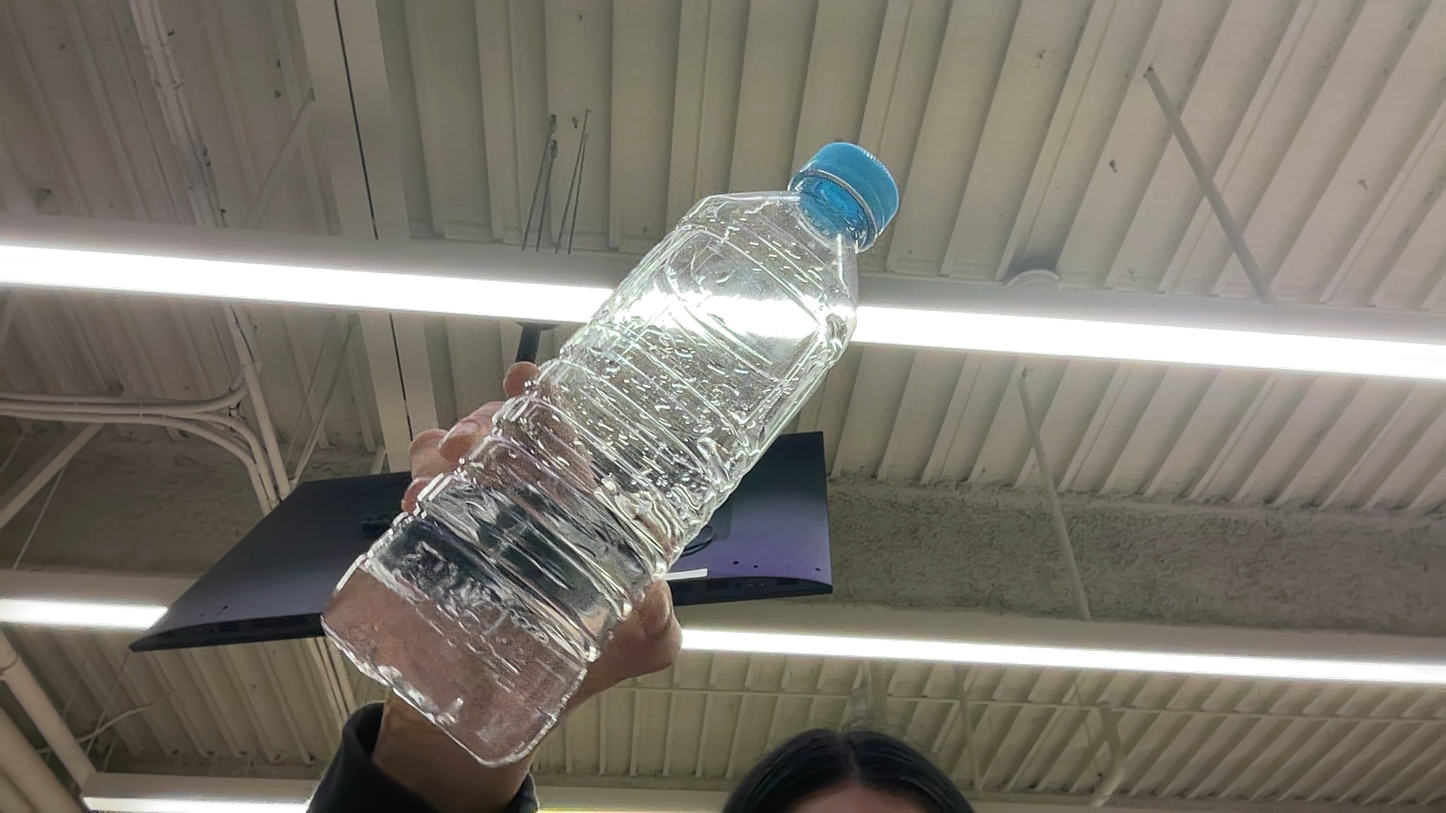Plastic: (4, 399, 278, 612)
